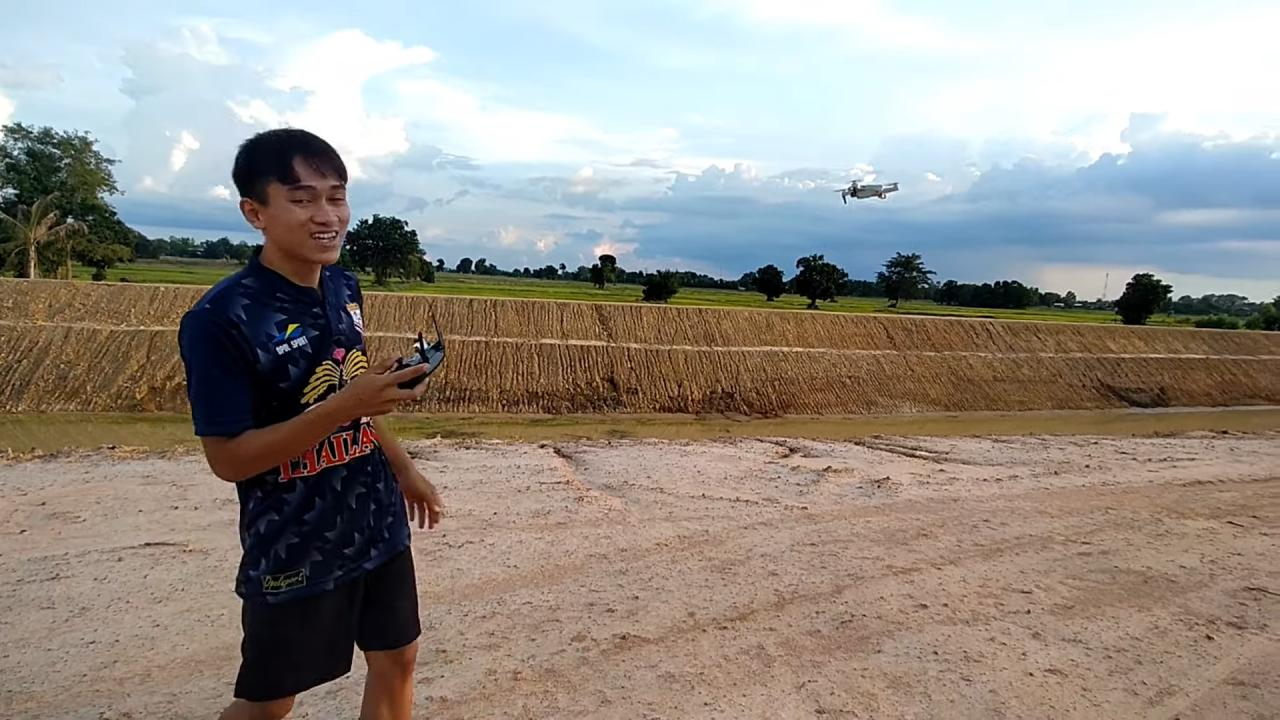Drone: (828, 170, 908, 209)
